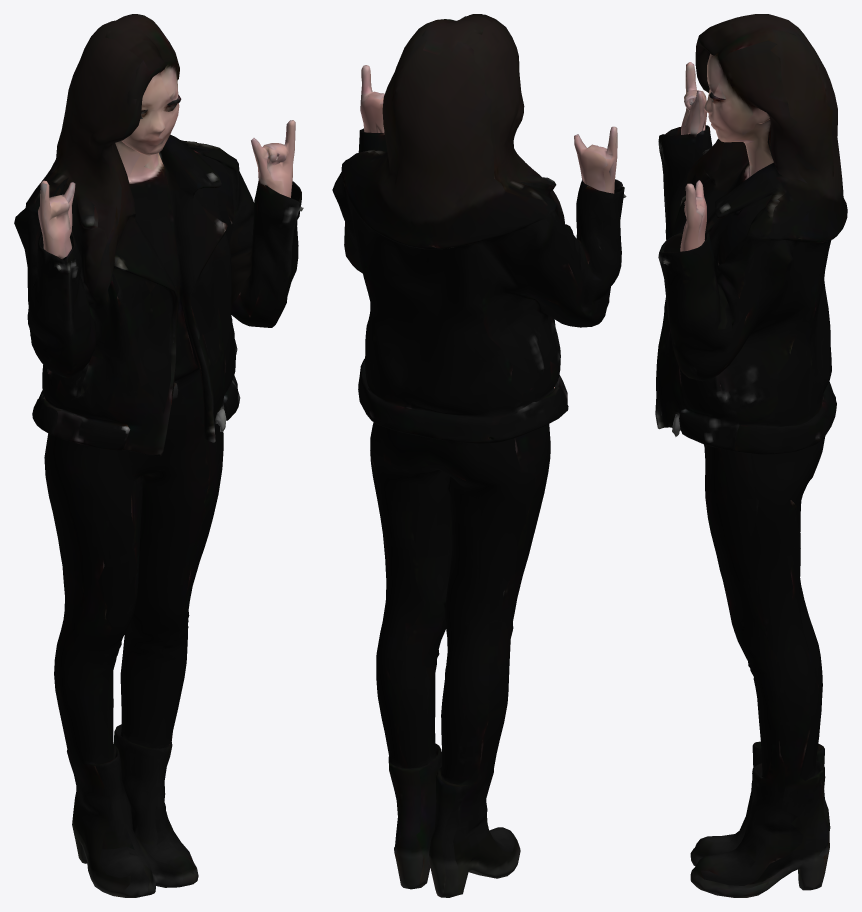
Rendered from fan-w-horns-s1.glb.
3 views of the same model, side by side, from view 1: azimuth 30°, elevation 25°; view 2: azimuth 150°, elevation 25°; view 3: azimuth 270°, elevation 25° (orthographic).
Visible parts, largest first — view 1: geometry_0; view 2: geometry_0; view 3: geometry_0.
Part boxes in pixels (x1=…): geometry_0: x1=14, y1=14, x2=303, y2=897; geometry_0: x1=332, y1=14, x2=626, y2=897; geometry_0: x1=655, y1=14, x2=847, y2=897.
Bounding box in the file's own units: 0.3257 × 1 × 0.204.
Materials: 1 (1 with a texture image).
